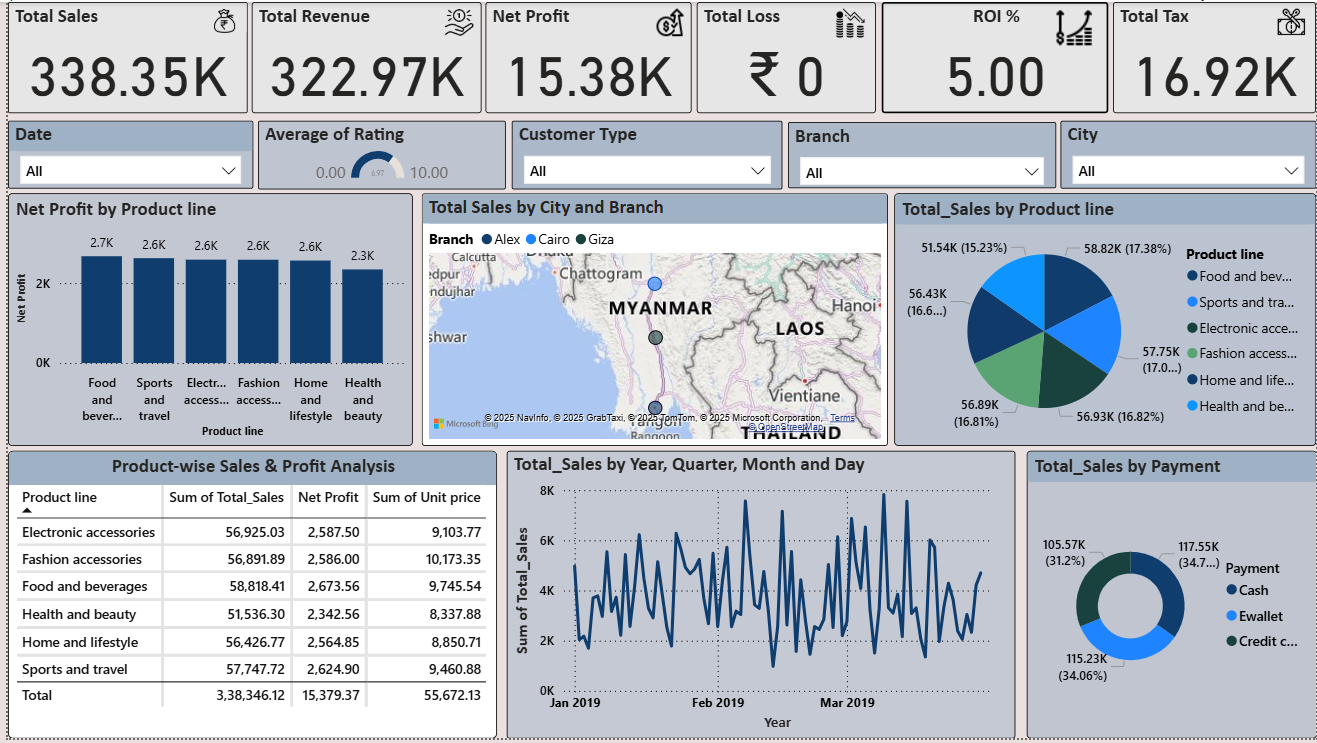

This screenshot's page, from the dashboard's own definition file:
{"tool":"powerbi","page":{"name":"Page 1","canvas":[1280,720],"ordinal":0},"visuals":[{"type":"card","title":"Total Sales","fields":{"Values":["Sum(cleaned_sales_data.Total_Sales)"]},"box":[0,0,234.6,108.4],"z":1000},{"type":"card","title":"Total Revenue","fields":{"Values":["cleaned_sales_data.Total Revenue"]},"box":[238.8,0,225,108.8],"z":1001},{"type":"card","title":"Total Tax ","fields":{"Values":["cleaned_sales_data.Total Tax"]},"box":[1081.2,0,198.8,108.8],"z":1006},{"type":"card","title":"Net Profit","fields":{"Values":["cleaned_sales_data.Net Profit"]},"box":[467.5,0,201.2,108.8],"z":1008},{"type":"card","title":"ROI %","fields":{"Values":["cleaned_sales_data.ROI %"]},"box":[855,0,221.2,108.8],"z":1010},{"type":"card","title":"Total Loss","fields":{"Values":["cleaned_sales_data.Total Loss"]},"box":[673.8,0,175,108.8],"z":1011},{"type":"image","box":[188,1.4,46.7,34.3],"z":1012},{"type":"columnChart","fields":{"Category":["cleaned_sales_data.Product line"],"Y":["cleaned_sales_data.Net Profit"]},"box":[0,187.5,396.2,247.5],"z":1014},{"type":"pieChart","title":" Total_Sales by Product line","fields":{"Category":["cleaned_sales_data.Product line"],"Y":["Sum(cleaned_sales_data.Total_Sales)"]},"box":[867.5,187.5,412.5,247.5],"z":1015},{"type":"tableEx","title":"Product-wise Sales & Profit Analysis","fields":{"Values":["cleaned_sales_data.Product line","Sum(cleaned_sales_data.Total_Sales)","cleaned_sales_data.Net Profit","Sum(cleaned_sales_data.Unit price)"]},"box":[0,438.8,478.8,281.2],"z":1016},{"type":"slicer","title":"Customer Type","fields":{"Values":["cleaned_sales_data.Customer type","cleaned_sales_data.Gender"]},"box":[492.5,116.2,265,67.5],"z":1017},{"type":"slicer","title":"Branch","fields":{"Values":["cleaned_sales_data.Branch"]},"box":[762.5,117.5,262.5,65],"z":1020},{"type":"slicer","title":"City","fields":{"Values":["cleaned_sales_data.City"]},"box":[1030,116.2,250,66.2],"z":1021},{"type":"lineChart","title":"Total_Sales by Year, Quarter, Month and Day","fields":{"Y":["Sum(cleaned_sales_data.Total_Sales)"],"Category":["Calendar.Date.Variation.Date Hierarchy.Year","Calendar.Date.Variation.Date Hierarchy.Quarter","Calendar.Date.Variation.Date Hierarchy.Month","Calendar.Date.Variation.Date Hierarchy.Day"]},"box":[487.5,438.8,497.5,281.2],"z":1025},{"type":"slicer","title":"Date","fields":{"Values":["Calendar.Date"]},"box":[0,116.2,240,66.2],"z":1026},{"type":"map","title":"Total Sales by City and Branch","fields":{"Category":["cleaned_sales_data.City"],"Series":["cleaned_sales_data.Branch"],"Size":["Sum(cleaned_sales_data.Total_Sales)"]},"box":[405,187.5,456.2,247.5],"z":1027},{"type":"gauge","fields":{"Y":["Avg(cleaned_sales_data.Rating)"]},"box":[245,116.2,242.5,67.5],"z":1030},{"type":"donutChart","title":"Total_Sales by Payment","fields":{"Category":["cleaned_sales_data.Payment"],"Y":["Sum(cleaned_sales_data.Total_Sales)"]},"box":[996.2,438.8,283.8,281.2],"z":1031},{"type":"image","box":[416.2,0,51.2,40],"z":1032},{"type":"image","box":[626.2,0,42.5,40],"z":1033},{"type":"image","box":[800,1.2,48.8,40],"z":1034},{"type":"image","box":[1018.8,0,48.8,50],"z":1035},{"type":"image","box":[1231.2,0,48.8,40],"z":1036}]}

Visuals, with their boxes in screenshot pixels (x1, y1, x2, y2), scaled from the page's 1280x720 canvas onto the 1317x743 screenshot:
"Total Sales" card: box=[0, 0, 241, 112]
"Total Revenue" card: box=[246, 0, 477, 112]
"Total Tax " card: box=[1112, 0, 1316, 112]
"Net Profit" card: box=[481, 0, 688, 112]
"ROI %" card: box=[880, 0, 1107, 112]
"Total Loss" card: box=[693, 0, 873, 112]
image: box=[193, 1, 241, 37]
columnChart - cleaned_sales_data.Product line x cleaned_sales_data.Net Profit: box=[0, 193, 408, 449]
" Total_Sales by Product line" pieChart: box=[893, 193, 1316, 449]
"Product-wise Sales & Profit Analysis" tableEx: box=[0, 453, 493, 742]
"Customer Type" slicer: box=[507, 120, 779, 190]
"Branch" slicer: box=[785, 121, 1055, 188]
"City" slicer: box=[1060, 120, 1316, 188]
"Total_Sales by Year, Quarter, Month and Day" lineChart: box=[502, 453, 1013, 742]
"Date" slicer: box=[0, 120, 247, 188]
"Total Sales by City and Branch" map: box=[417, 193, 886, 449]
gauge - Avg(cleaned_sales_data.Rating): box=[252, 120, 502, 190]
"Total_Sales by Payment" donutChart: box=[1025, 453, 1316, 742]
image: box=[428, 0, 481, 41]
image: box=[644, 0, 688, 41]
image: box=[823, 1, 873, 43]
image: box=[1048, 0, 1098, 52]
image: box=[1267, 0, 1316, 41]
